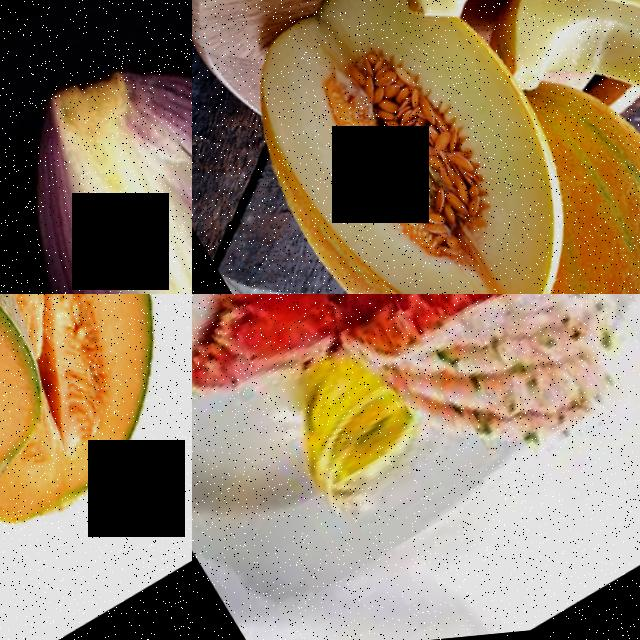lobster tails: (192, 294, 593, 440)
melon: (192, 0, 592, 294), (0, 294, 192, 513), (349, 0, 640, 61)
onion: (0, 0, 192, 294)
